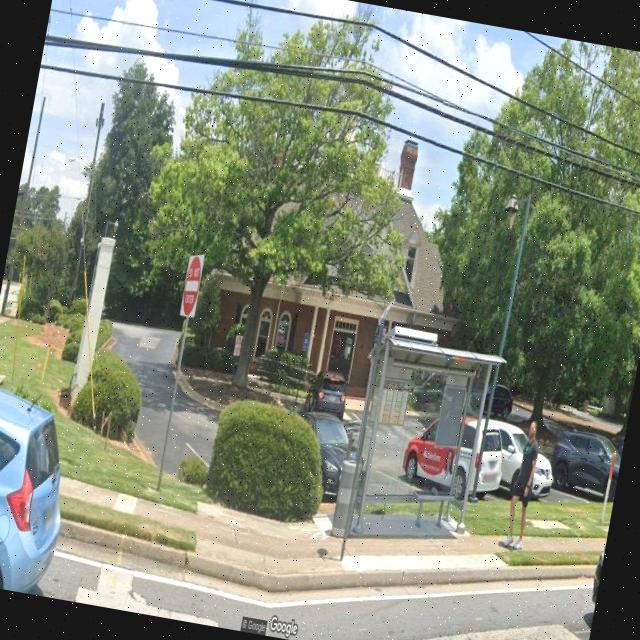seating: (406, 482, 452, 532)
shelter: (337, 327, 511, 560)
trash_can: (328, 452, 359, 538)
